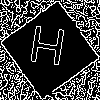H: (25, 25, 68, 76)
